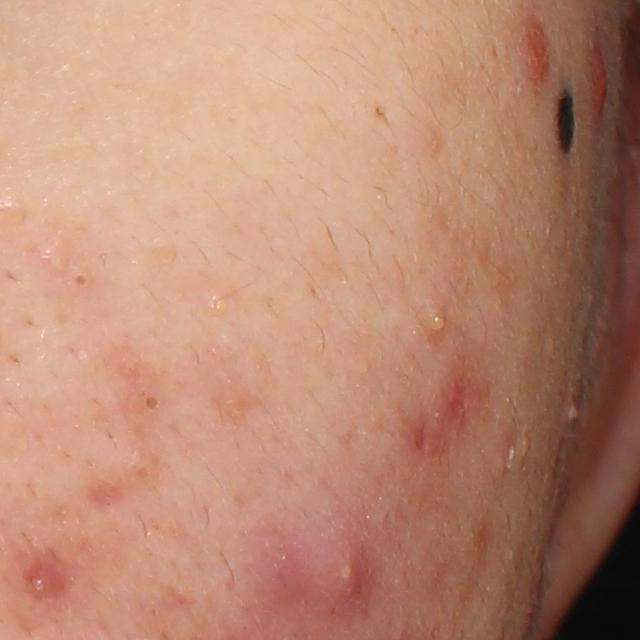atrophic_scar: (87, 481, 123, 505)
comedo: (140, 392, 165, 417), (130, 460, 152, 484), (70, 269, 94, 290)
nevus: (552, 81, 581, 162)
papule: (519, 17, 553, 90)
pustule: (422, 303, 451, 341)
